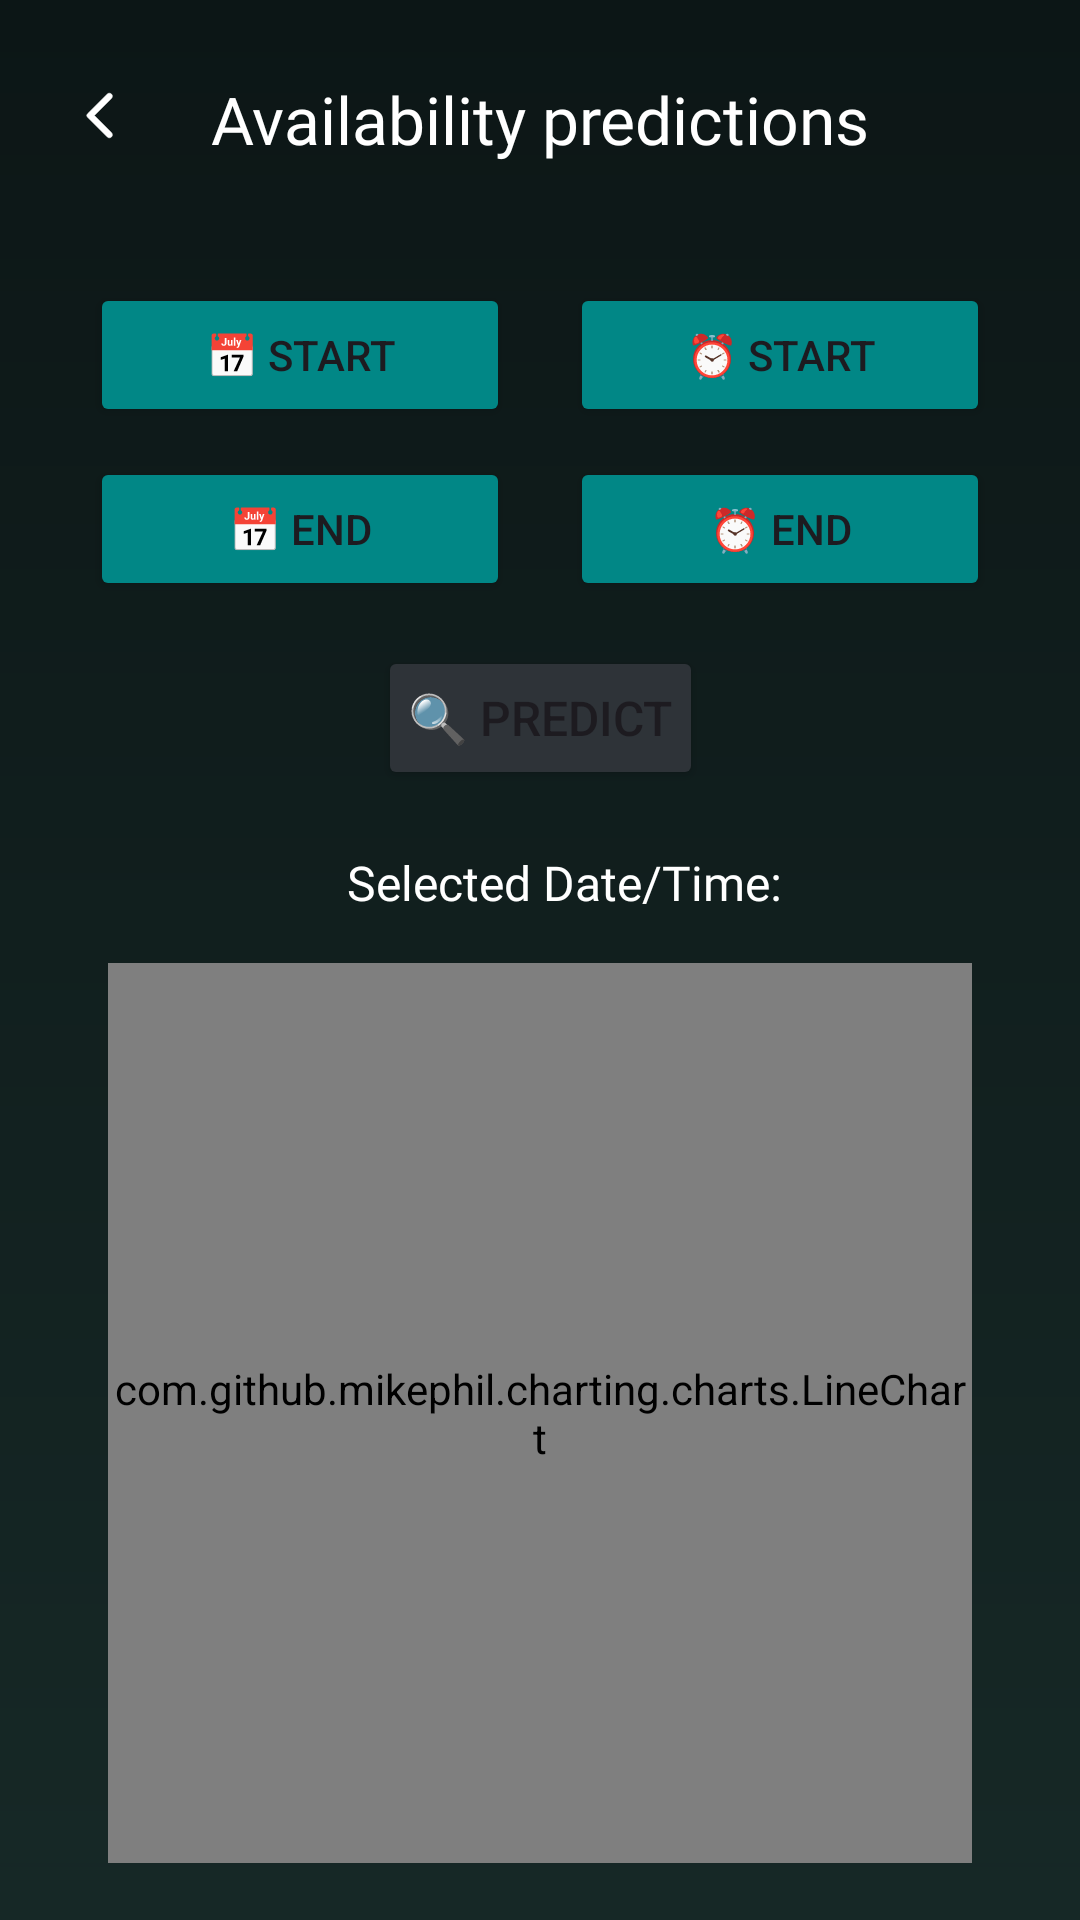

Icon bounding boxes for this 1080px x 1920px phone screenshot, format (x1, y1, x2, y2):
back arrow: (86, 92, 113, 139)
